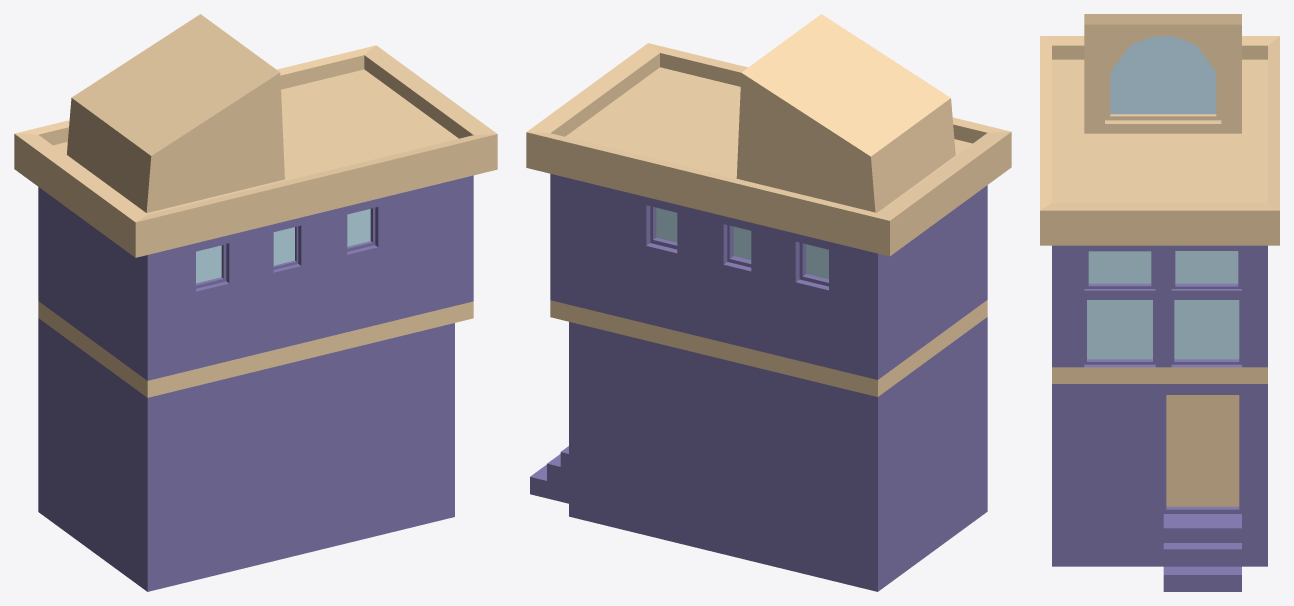
The model's file is exterior_building06_obj_01.fbx.
3 renders of one model, left to right at view 1: azimuth 30°, elevation 25°; view 2: azimuth 150°, elevation 25°; view 3: azimuth 270°, elevation 25°, orthographic.
Parts seen in each view (by area): view 1: Building02; view 2: Building02; view 3: Building02.
Part boxes in pixels (<box>): Building02: <box>14,14,497,591</box>; Building02: <box>526,14,1011,591</box>; Building02: <box>1040,14,1279,591</box>.
Size of the model in its own units: 19.44 by 23.18 by 10.82.
Materials: 1 (1 with a texture image).
